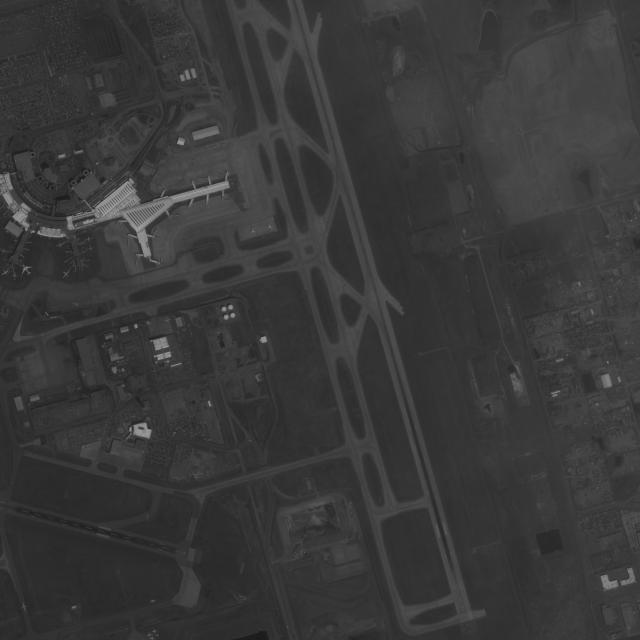plane: (16, 259, 36, 279), (59, 268, 72, 281), (18, 600, 30, 614), (70, 299, 82, 310), (0, 267, 11, 279), (160, 315, 173, 325), (247, 226, 258, 237), (264, 221, 275, 232), (142, 318, 154, 328), (83, 234, 94, 244), (55, 240, 64, 250), (85, 244, 95, 253), (0, 246, 9, 256), (144, 631, 153, 639), (11, 272, 18, 281), (151, 627, 158, 634), (154, 632, 161, 638), (149, 636, 156, 640)
storage-tank: (230, 312, 236, 319), (223, 314, 229, 320), (221, 306, 227, 312), (227, 304, 233, 310)
